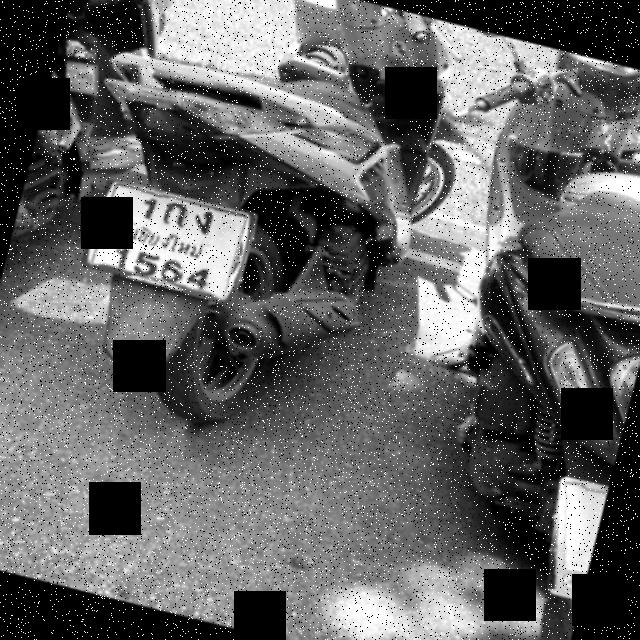letters: (131, 246, 157, 280), (138, 186, 163, 220), (163, 197, 190, 226), (193, 203, 214, 232), (161, 258, 184, 284), (116, 240, 134, 271), (188, 266, 212, 288)
license-plate: (87, 181, 252, 305), (560, 480, 607, 595)
province: (126, 220, 213, 260)
